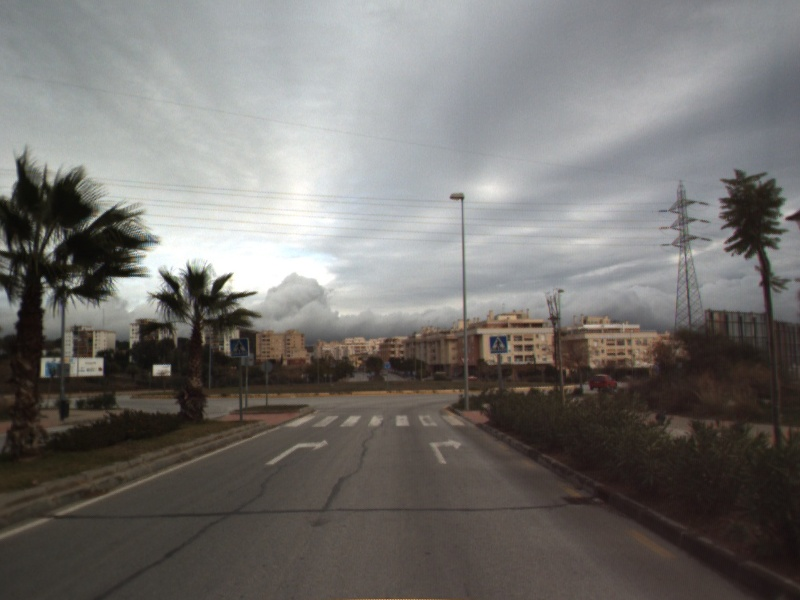RIGHT: (263, 438, 330, 467), (427, 437, 464, 466)
